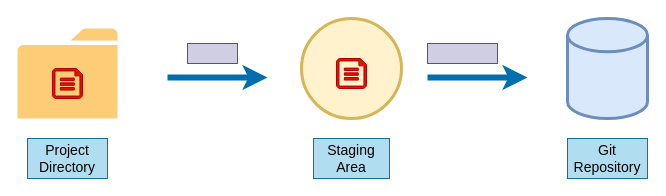
Image size: 666x196. Some labels were removed from this diagram. Each missing label, with the centre of its shape:
git add: point (212, 53)
git commit: point (462, 53)
